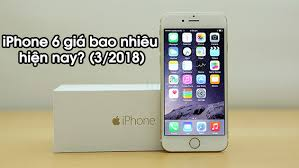iphone: (153, 8, 229, 153)
iphone6: (155, 10, 231, 155)
